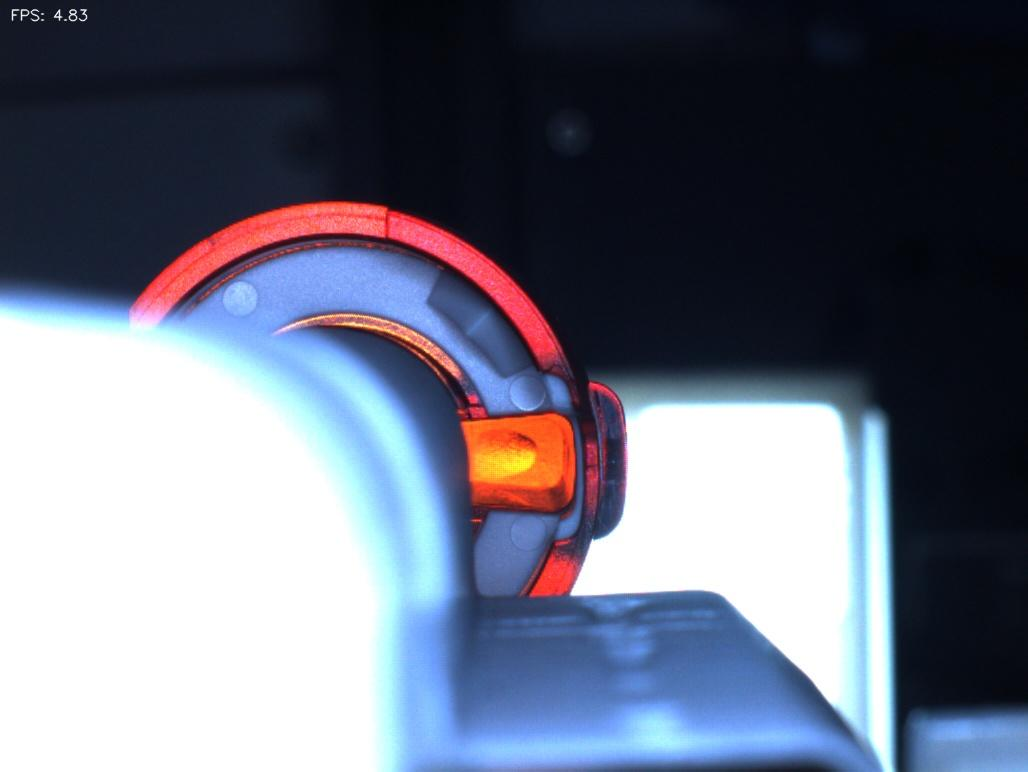Retassure: (461, 419, 554, 495)
